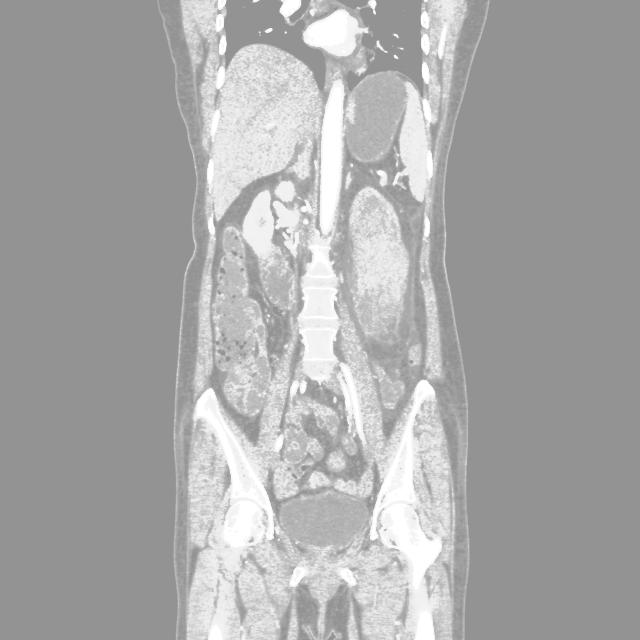TUMOR: (124, 180, 516, 418)
